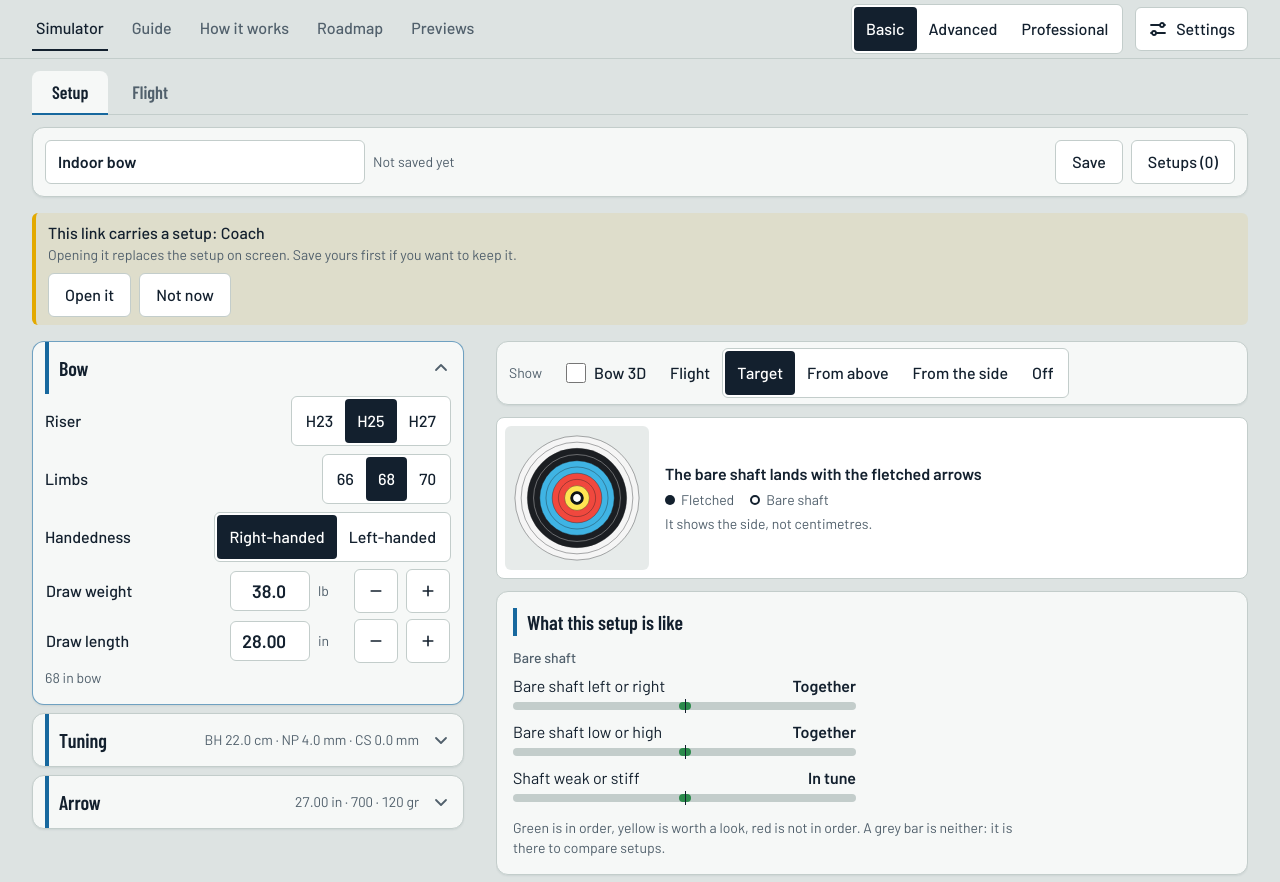
Scenario: opening a link › leaves the setup on screen alone when turned down
Click the button "Not now" at (185, 295), box [139,273,231,317]
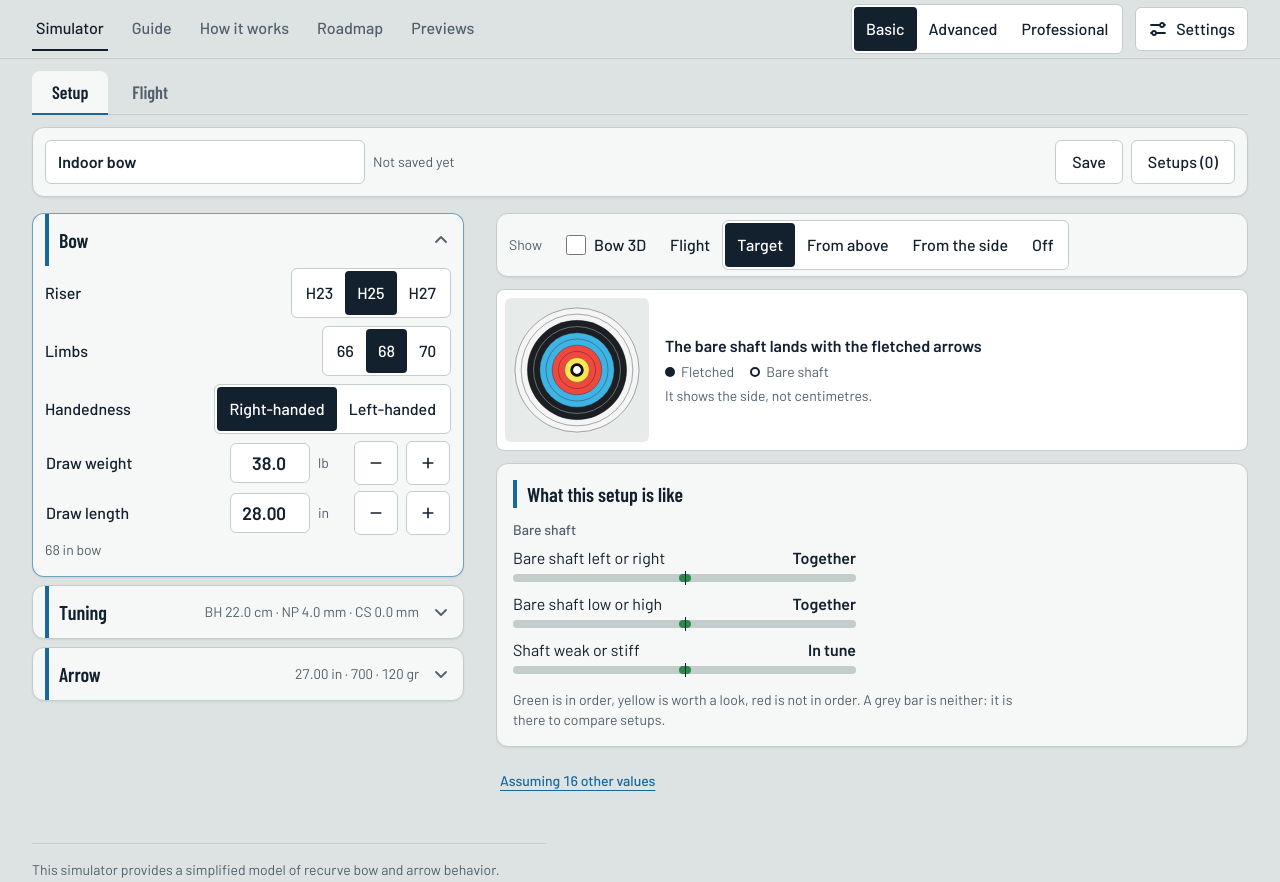
Check: the text "This link carries" is gone
